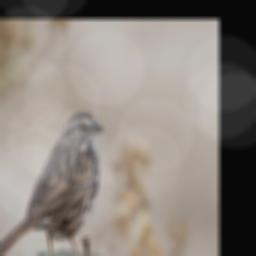Sparrow: (0, 106, 104, 256)
